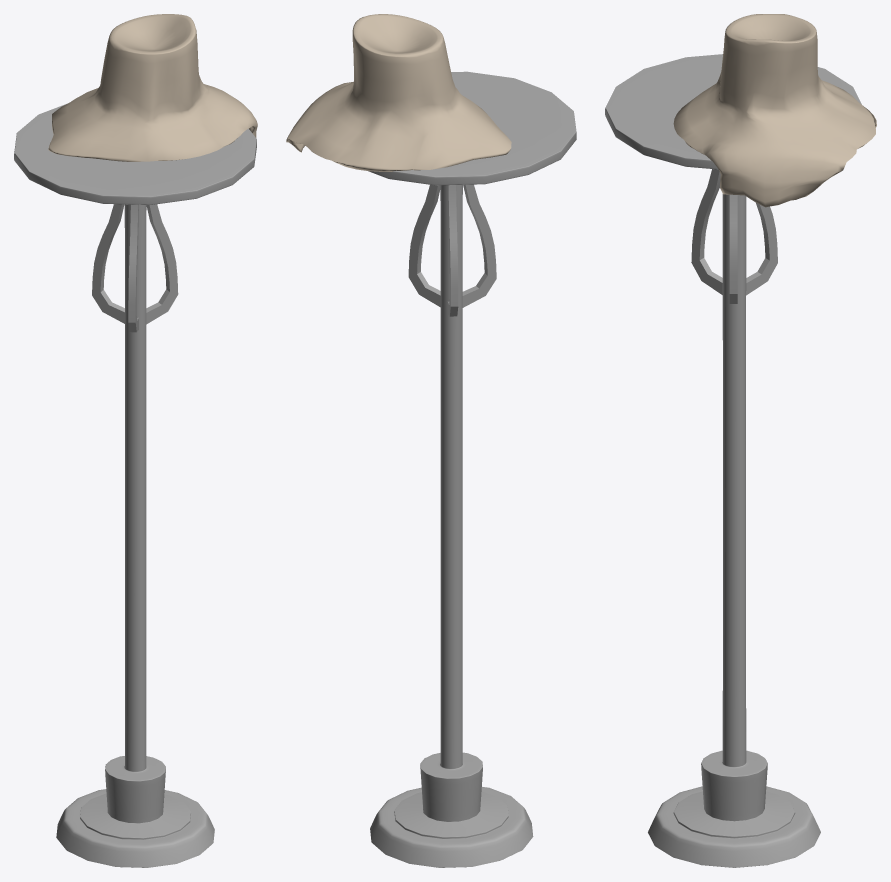
The model's file is bougie3.fbx.
The picture shows the model from 3 angles, left to right: view 1: azimuth 30°, elevation 25°; view 2: azimuth 150°, elevation 25°; view 3: azimuth 270°, elevation 25°; orthographic projection. The views are drawn at different scales.
Parts seen in each view (by area): view 1: pCylinder1, bougie1, pCube4; view 2: pCylinder1, bougie1, pCube4; view 3: pCylinder1, bougie1, pCube4.
Part boxes in pixels (x1,y1,x2,y2): pCylinder1: (14, 103, 256, 867); bougie1: (48, 14, 257, 161); pCube4: (92, 204, 178, 332); pCylinder1: (368, 71, 576, 867); bougie1: (286, 14, 511, 171); pCube4: (408, 184, 496, 316); pCylinder1: (605, 54, 861, 867); bougie1: (673, 14, 876, 207); pCube4: (691, 169, 777, 303).
Bounding box in the file's own units: 1.83 × 5.88 × 1.75.
